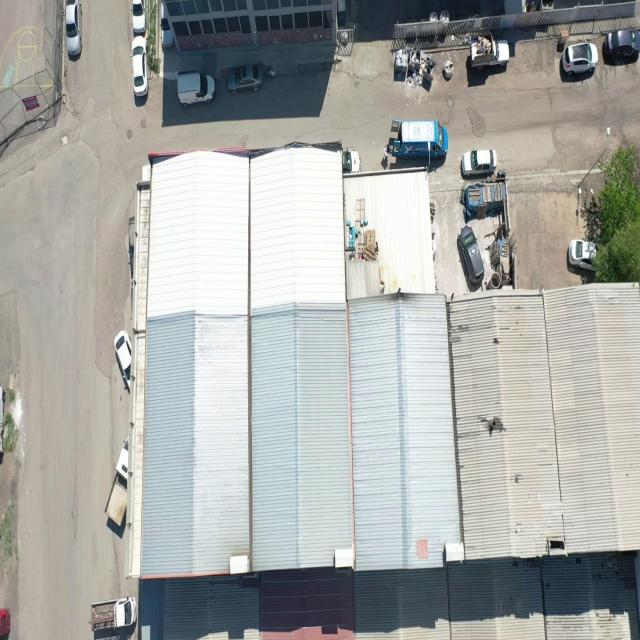p3rson: (384, 143, 390, 153)
